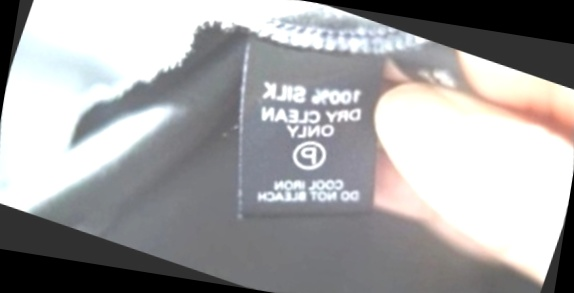dry_clean_any_solvent_except_trichloroethylene: (274, 120, 343, 189)
